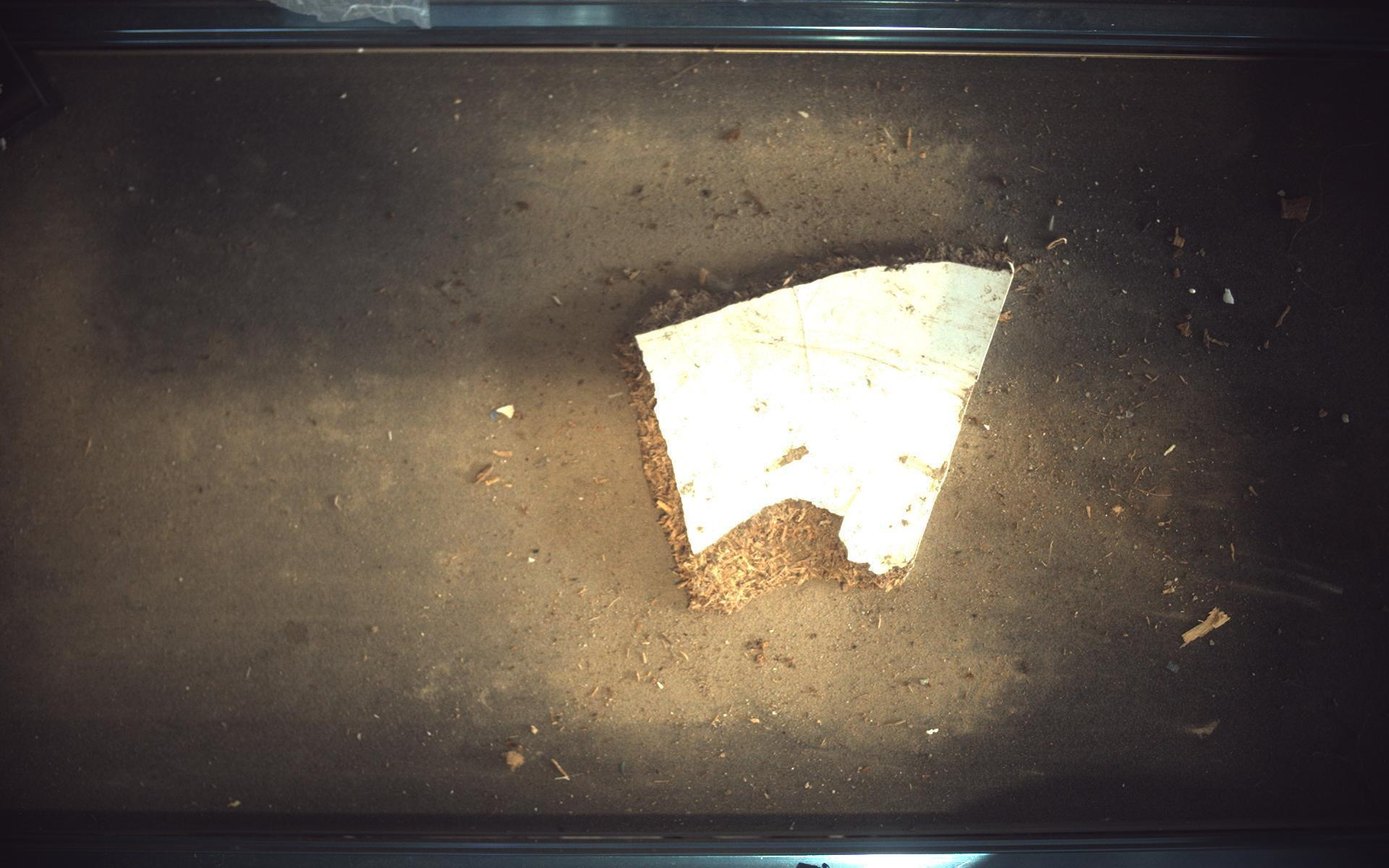wood: (620, 242, 1015, 613)
